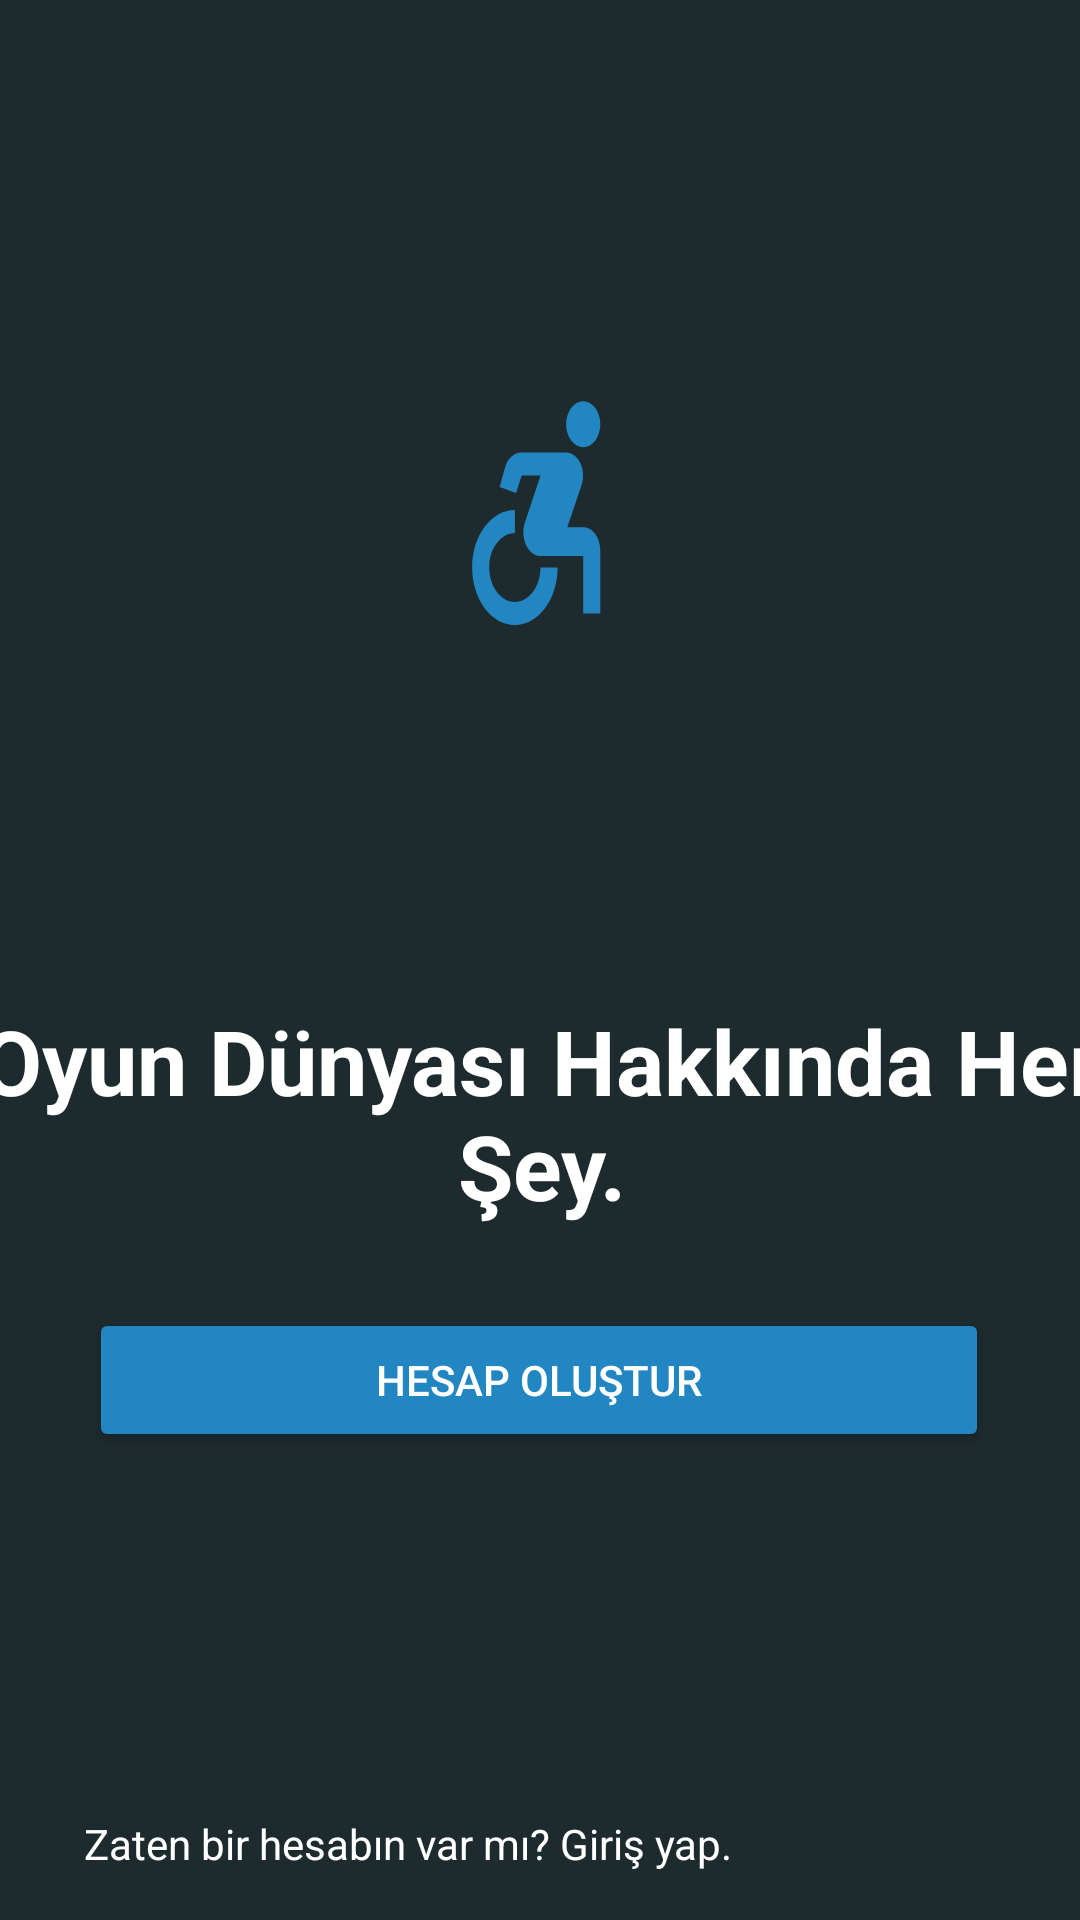

Screen size 1080×1920. Icon name, then its box in pixels as box=[x1, y1, x2, y2]:
accessible forward: box=[472, 401, 601, 625]
